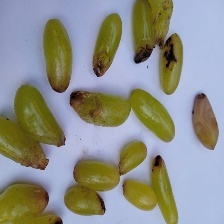grapes: (48, 50, 210, 214)
